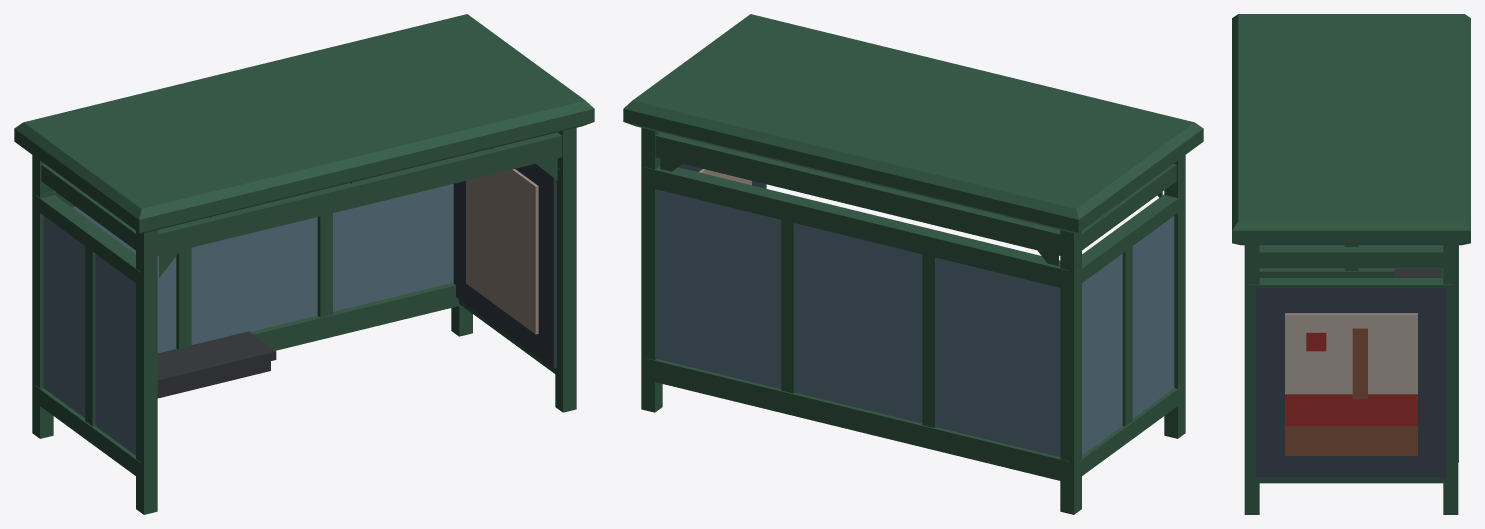
File: bus-shelter-f786b4.glb
3 views of the same model, side by side, from view 1: azimuth 30°, elevation 25°; view 2: azimuth 150°, elevation 25°; view 3: azimuth 270°, elevation 25° (orthographic). The views are drawn at different scales.
Parts seen in each view (by area): view 1: shelter; view 2: shelter; view 3: shelter.
Part boxes in pixels (x1=…): shelter: x1=14, y1=14, x2=594, y2=514; shelter: x1=623, y1=14, x2=1203, y2=514; shelter: x1=1232, y1=14, x2=1470, y2=514.
Bounding box in the file's own units: 4 × 2.6 × 1.9.
